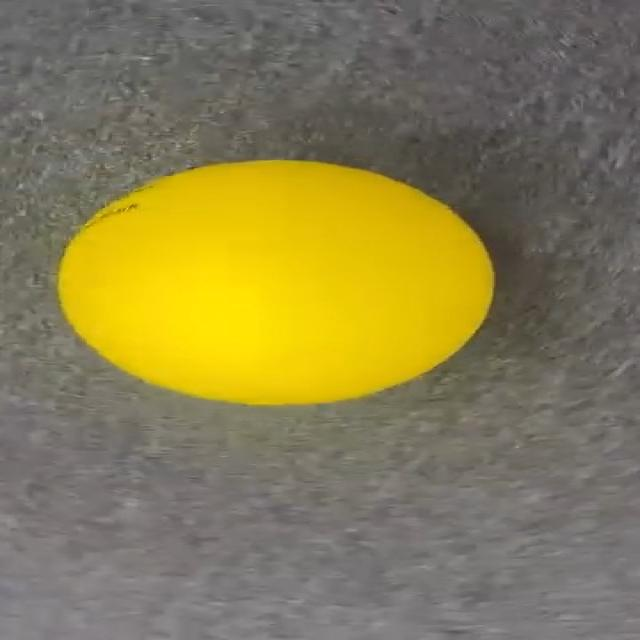Fuels: (60, 160, 489, 404)
